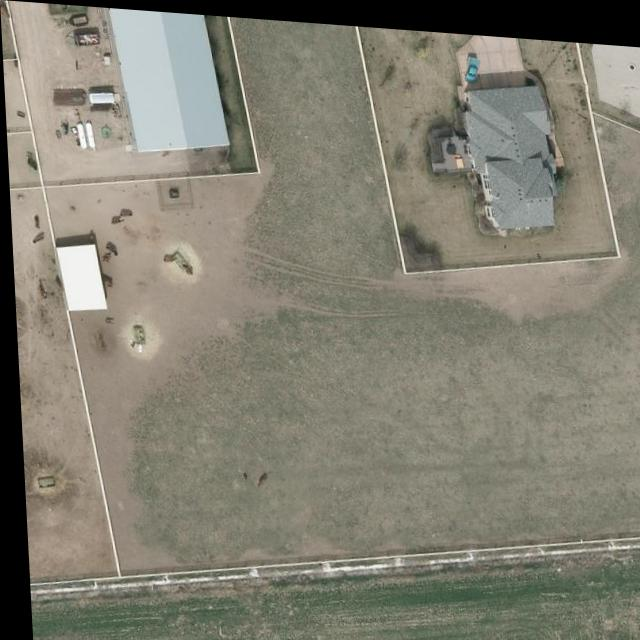vehicle: (464, 49, 479, 76)
